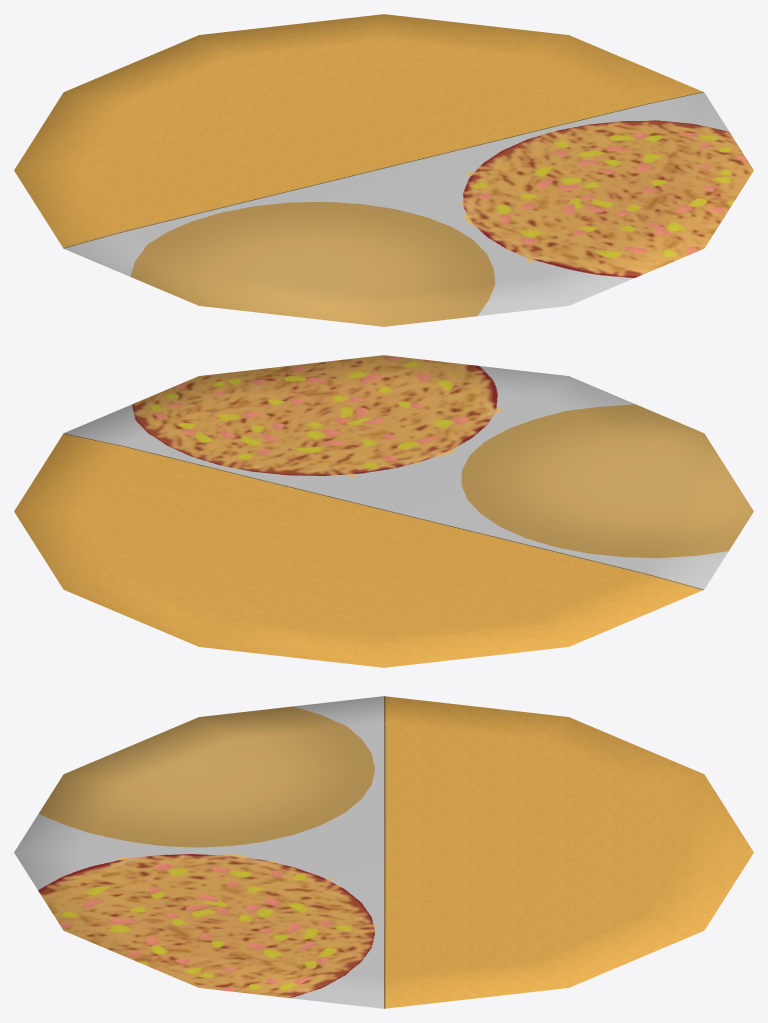
File: WorldItem_PizzaHawaii2.fbx
The picture shows the model from 3 angles, top to bottom: view 1: azimuth 30°, elevation 25°; view 2: azimuth 150°, elevation 25°; view 3: azimuth 270°, elevation 25°; orthographic projection.
Visible parts, largest first — view 1: PiePreparation, PiePreparation.001; view 2: PiePreparation, PiePreparation.001; view 3: PiePreparation, PiePreparation.001.
Part boxes in pixels (box(x1,y1,x2,y2)): PiePreparation: box(14, 14, 753, 326); PiePreparation.001: box(64, 92, 729, 316); PiePreparation: box(14, 355, 753, 667); PiePreparation.001: box(64, 366, 728, 589); PiePreparation: box(38, 696, 753, 1008); PiePreparation.001: box(14, 696, 383, 1008).
Size of the model in its own units: 43.58 by 1.62 by 43.58.
